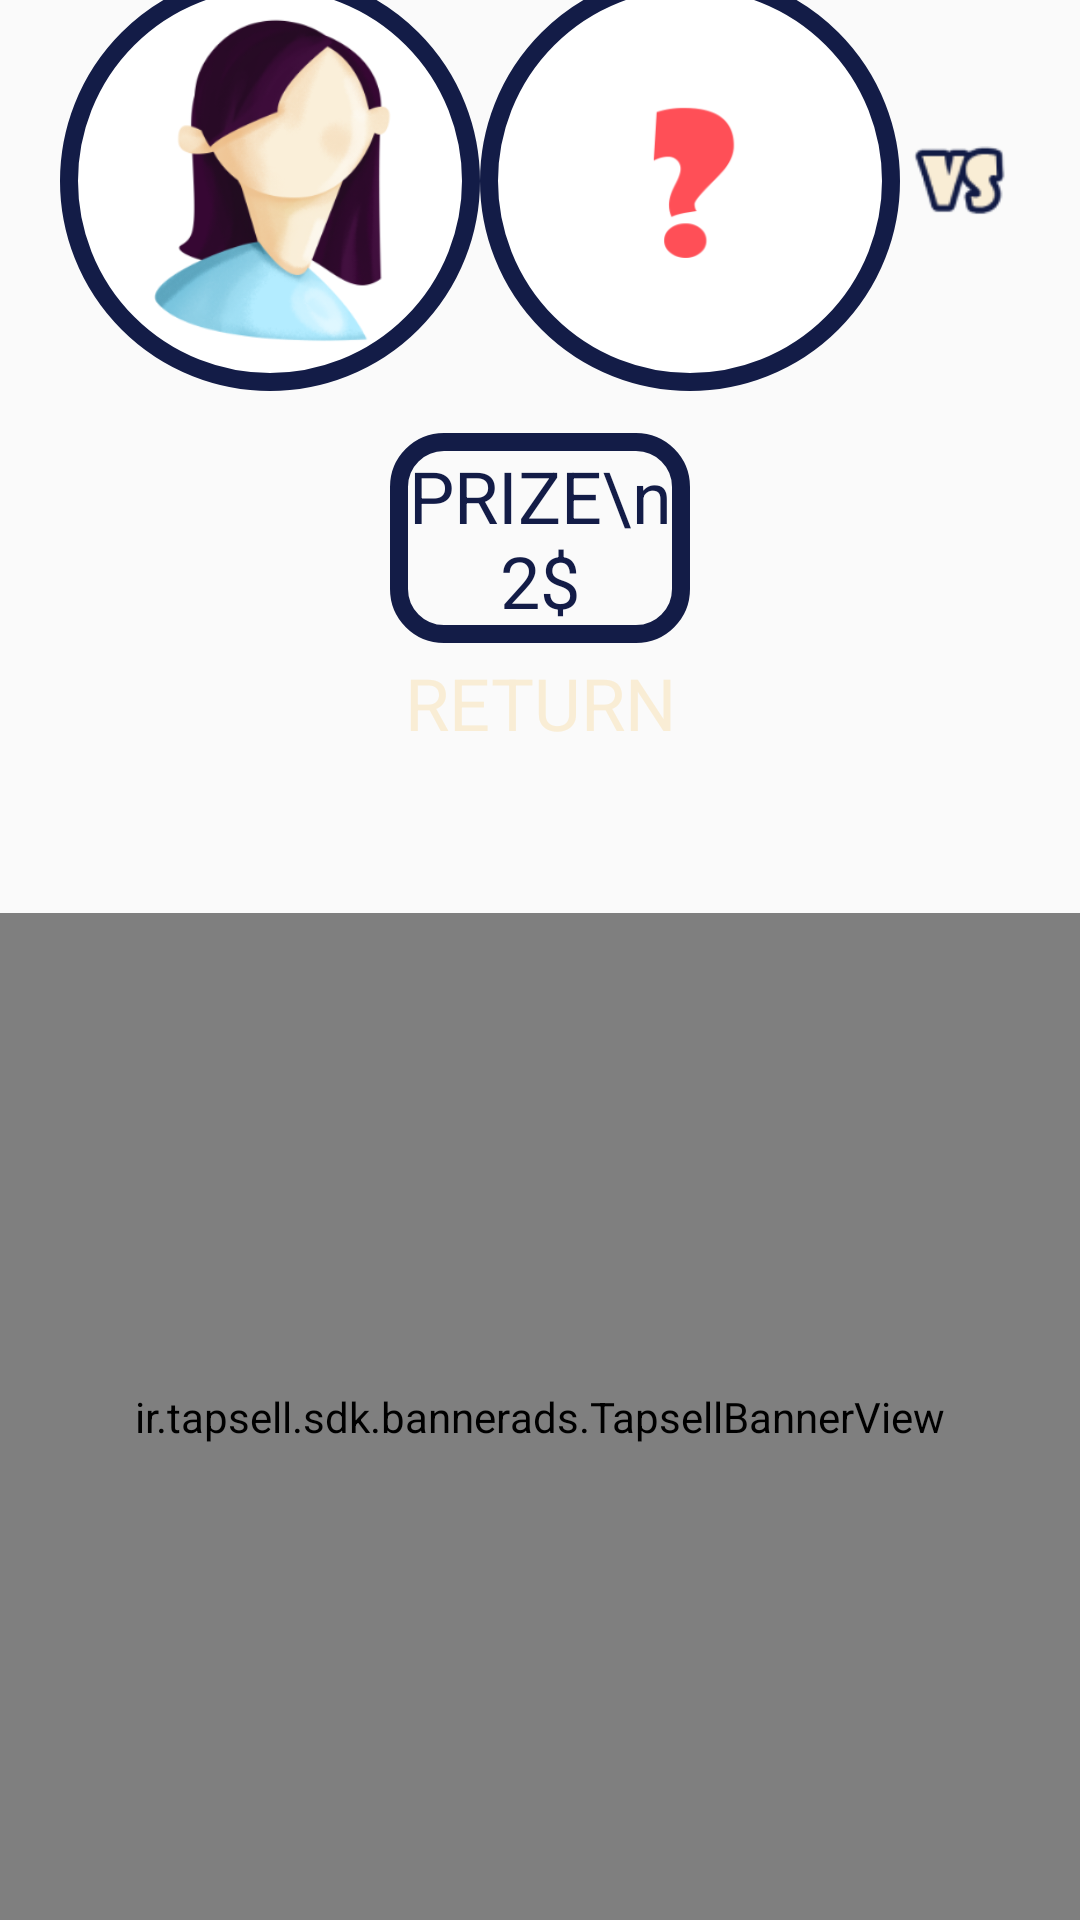

Named icons in this screenshot (1080 x 1920) and their bounding boxes, (x1, y1, x2, y2):
face: (154, 20, 389, 341)
